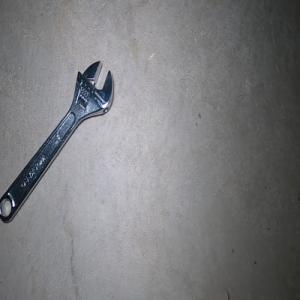Wrench: (0, 60, 113, 222)
